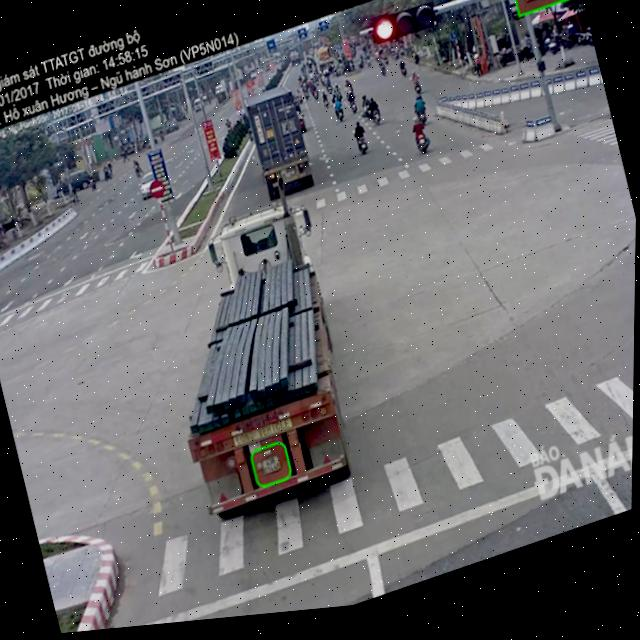Red: (368, 5, 443, 58)
